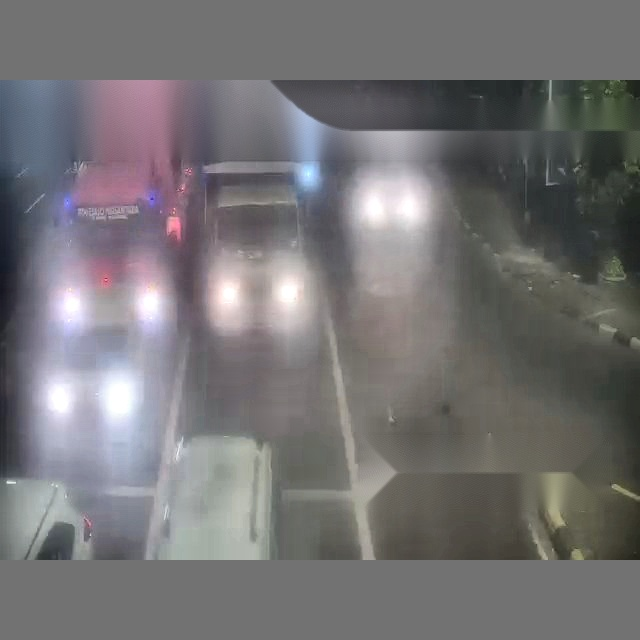Mobil: (0, 479, 91, 559)
